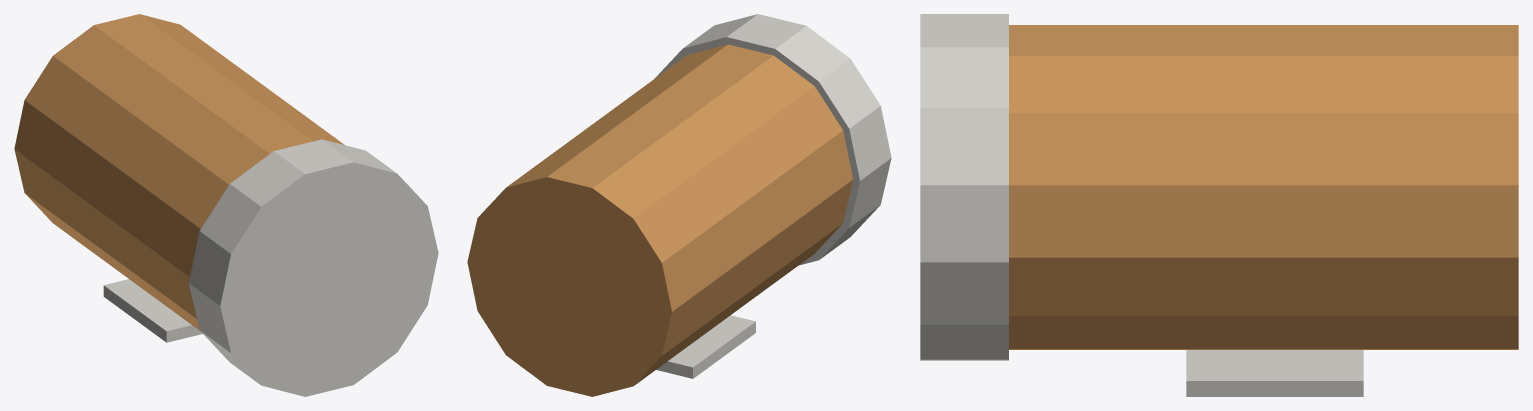
Rendered from vitamins.glb.
The picture shows the model from 3 angles, left to right: view 1: azimuth 30°, elevation 25°; view 2: azimuth 150°, elevation 25°; view 3: azimuth 270°, elevation 25°; orthographic projection. The views are drawn at different scales.
Visible parts, largest first — view 1: 00_bottle, 01_cap, 02_label; view 2: 00_bottle, 01_cap, 02_label; view 3: 00_bottle, 01_cap, 02_label.
Part boxes in pixels (x1=…): 00_bottle: x1=14, y1=14, x2=344, y2=330; 01_cap: x1=188, y1=139, x2=438, y2=396; 02_label: x1=103, y1=279, x2=202, y2=342; 00_bottle: x1=467, y1=44, x2=853, y2=396; 01_cap: x1=654, y1=14, x2=891, y2=265; 02_label: x1=656, y1=315, x2=755, y2=378; 00_bottle: x1=1009, y1=25, x2=1518, y2=349; 01_cap: x1=920, y1=14, x2=1008, y2=360; 02_label: x1=1186, y1=350, x2=1363, y2=396.
Size of the model in its own units: 0.16 by 0.1649 by 0.27.
